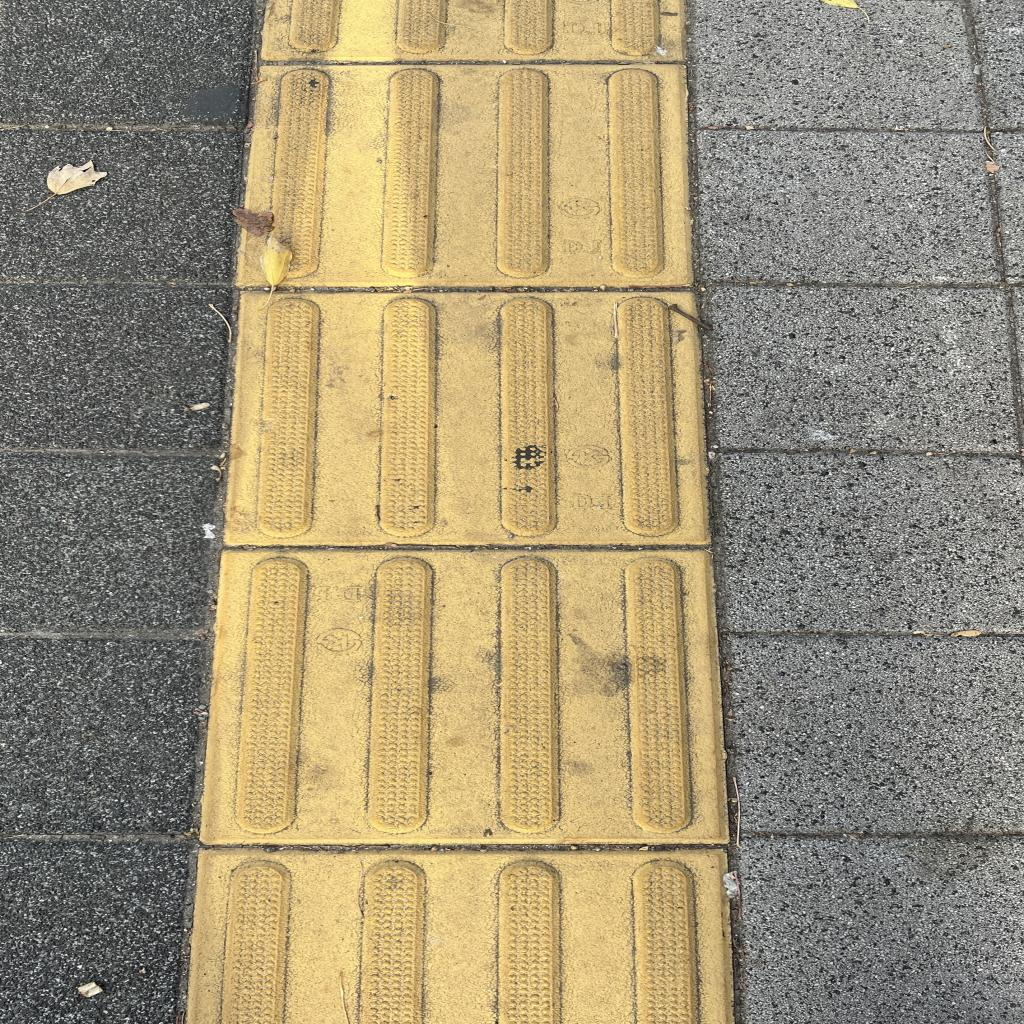Straight block normal: (209, 554, 722, 840), (241, 64, 690, 285)
